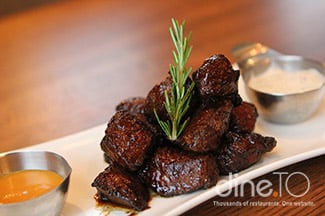sushi: (230, 41, 325, 124), (0, 149, 72, 214)
